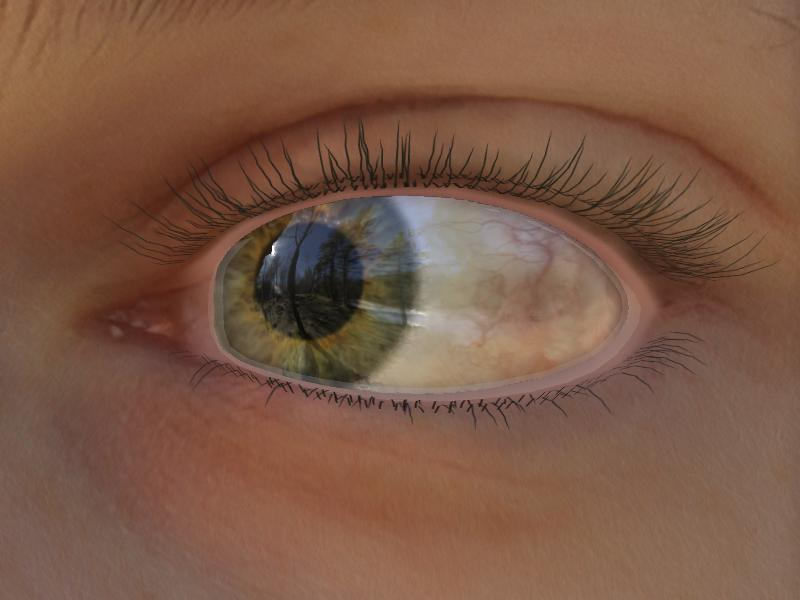eye: (222, 197, 420, 388)
